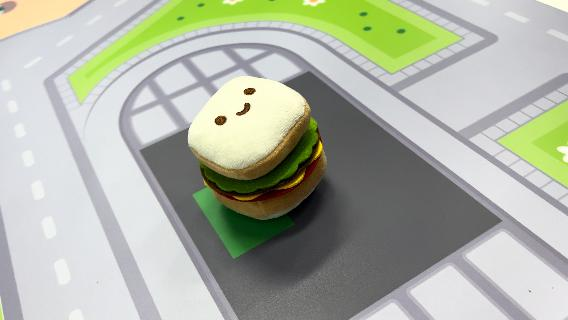sandwich: (186, 73, 328, 221)
